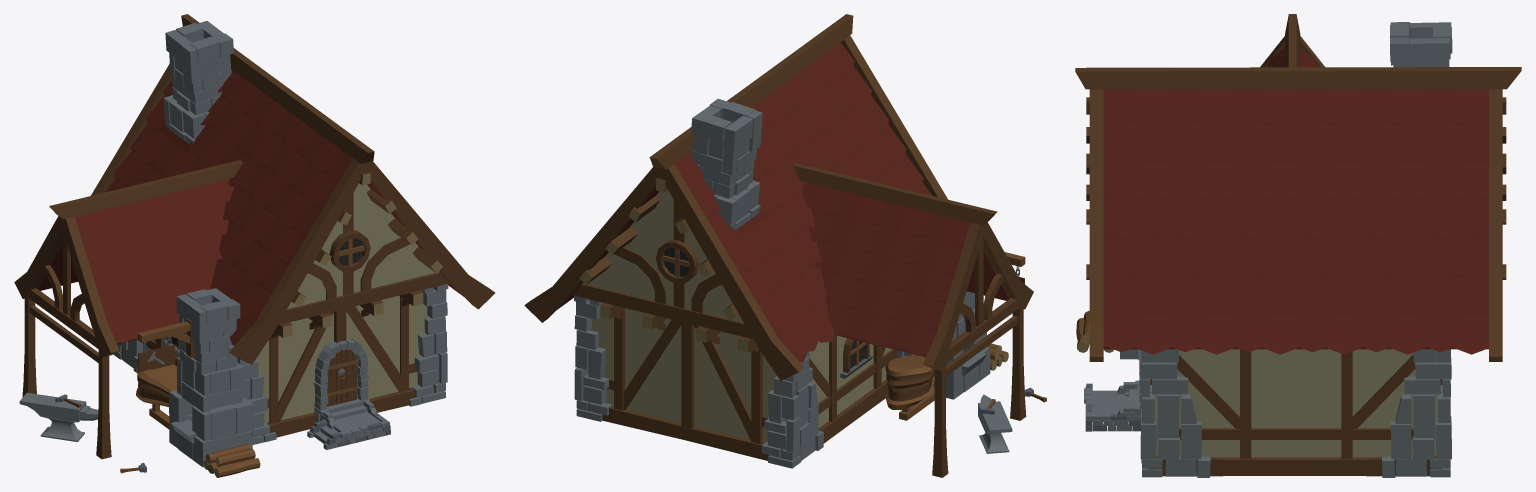
Rendered from blacksmith.glb.
3 views of the same model, side by side, from view 1: azimuth 30°, elevation 25°; view 2: azimuth 150°, elevation 25°; view 3: azimuth 270°, elevation 25° (orthographic). The views are drawn at different scales.
Parts seen in each view (by area): view 1: Blacksmith; view 2: Blacksmith; view 3: Blacksmith.
Part boxes in pixels (<box>): Blacksmith: <box>14,14,495,477</box>; Blacksmith: <box>524,14,1046,477</box>; Blacksmith: <box>1075,14,1521,477</box>.
Size of the model in its own units: 3.89 by 3 by 3.28.
